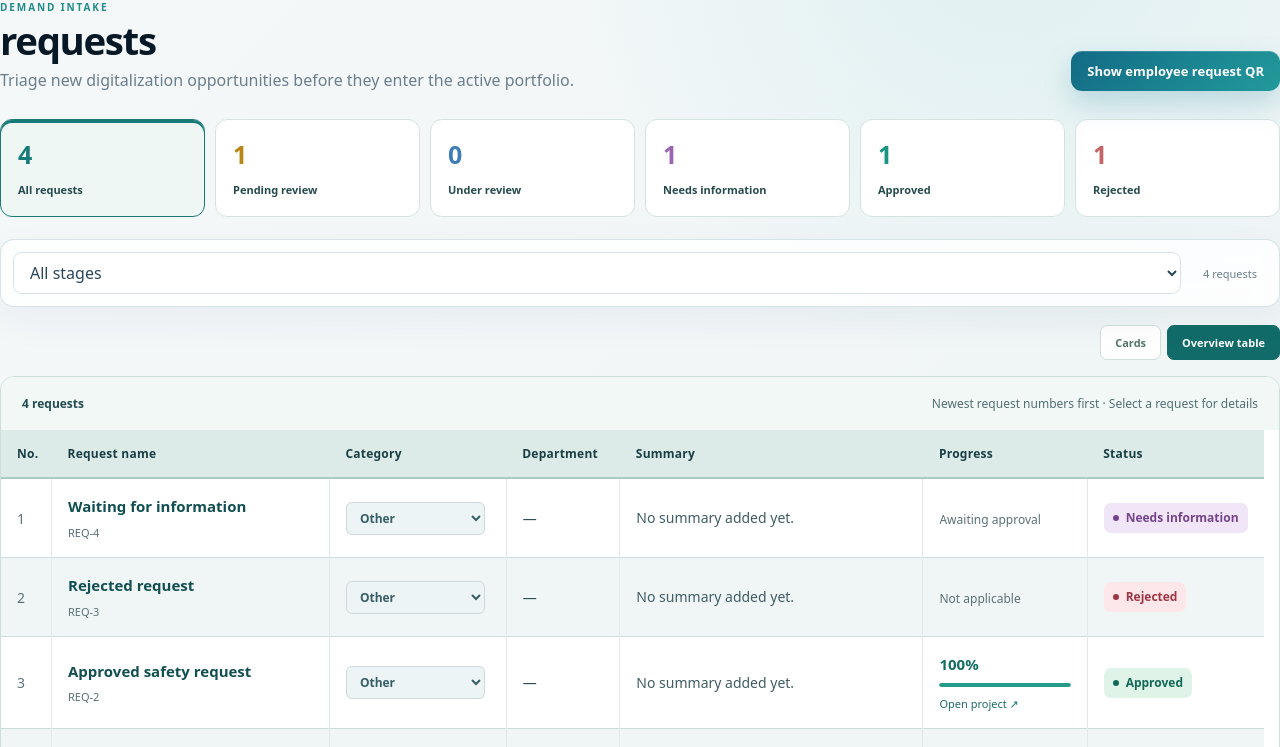
separates requests into clear stages and filters to approved work
This screenshot has width=1280, height=747.
Click the button "Cards". click: click(1131, 343)
box: x1=1100 y1=325 x2=1161 y2=360
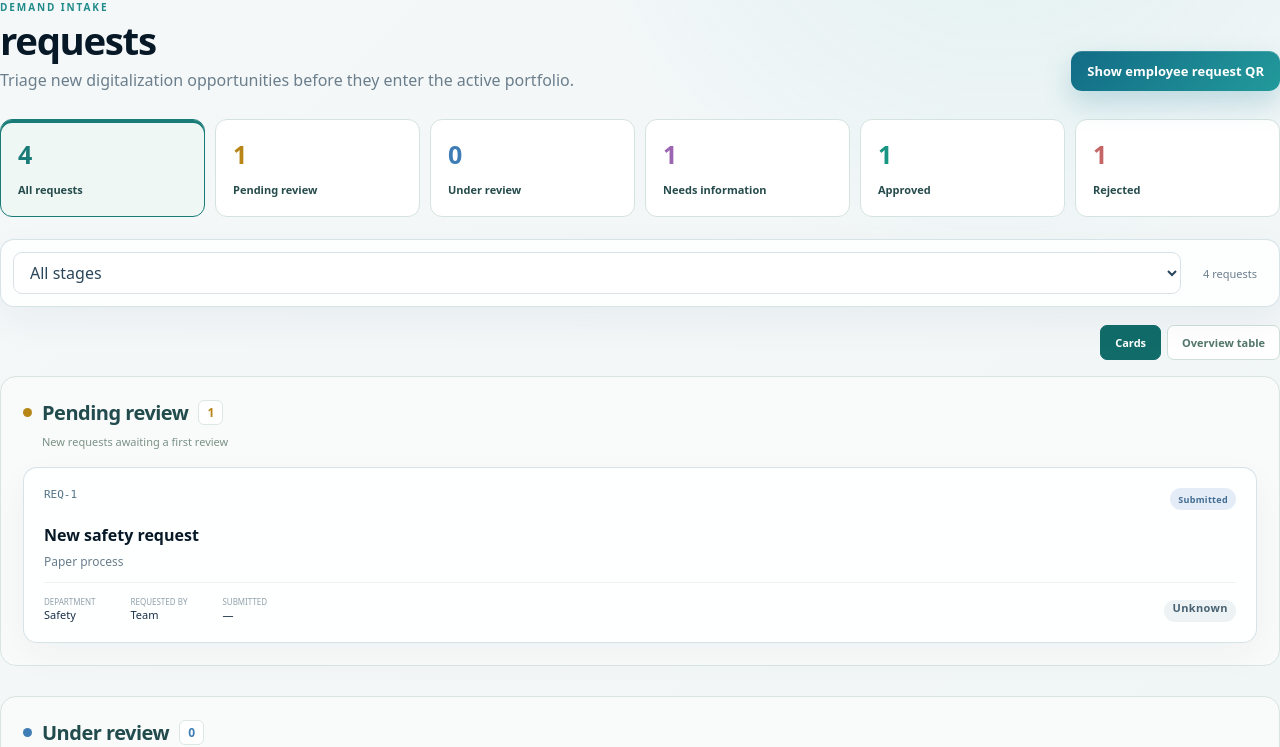
Expected: the number of elements with class "request-stage-section" is 5
Expected: the element with class "request-stage-section" shows "New safety request", x1=23 y1=467 x2=1257 y2=643
Click the button "1 Approved". click: click(962, 168)
box: x1=860 y1=119 x2=1065 y2=217
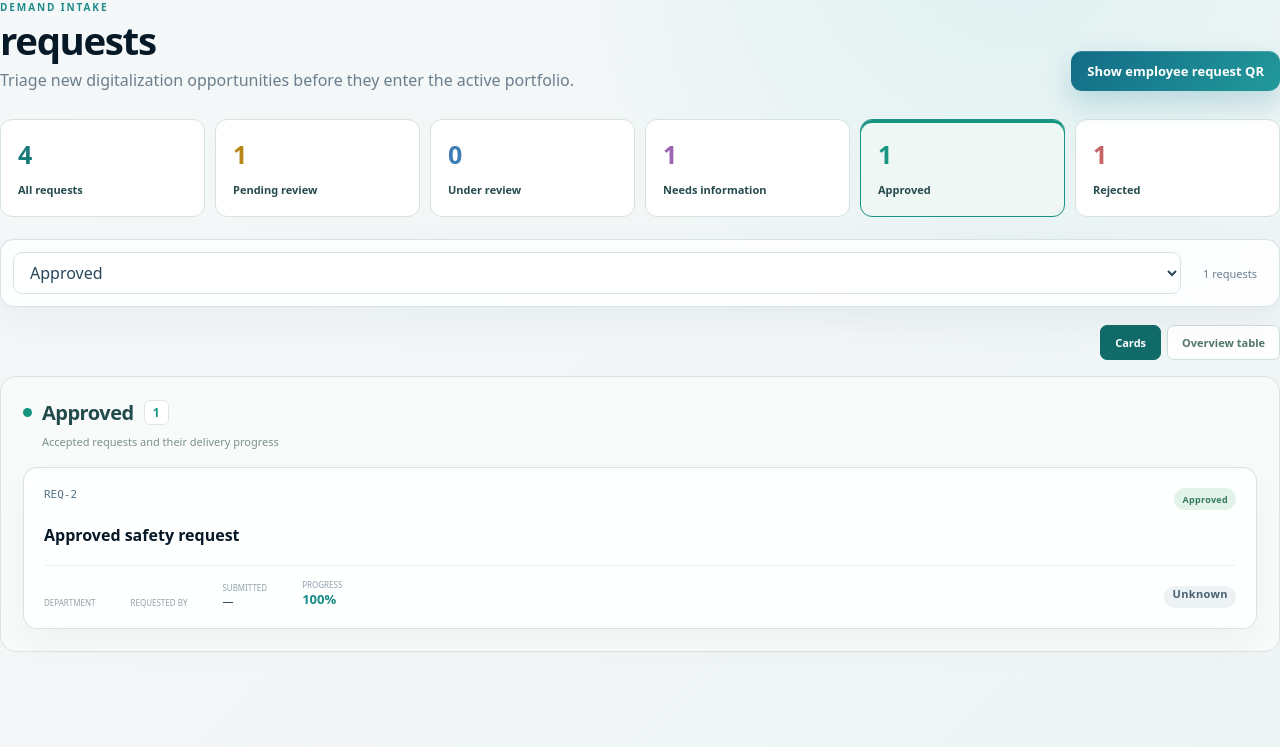
Expected: the number of elements with class "request-stage-section" is 1, x1=0 y1=376 x2=1279 y2=652
Expected: the number of links with class "request-card" is 1, x1=23 y1=467 x2=1257 y2=629
